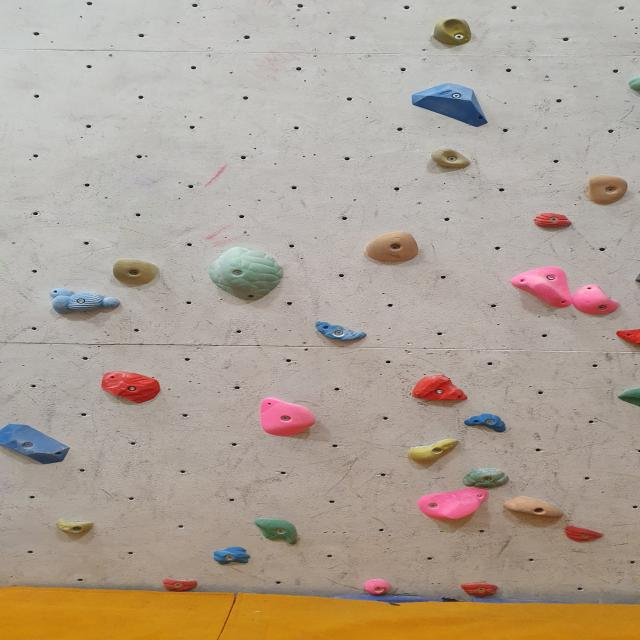Crimp: (0, 424, 77, 465), (402, 373, 473, 406), (102, 370, 164, 402), (559, 523, 608, 545), (464, 468, 514, 489), (309, 323, 366, 341), (465, 414, 511, 431), (533, 212, 574, 230), (458, 582, 500, 598), (214, 548, 254, 564), (56, 520, 94, 536), (360, 578, 390, 596), (158, 578, 196, 590)
Jug: (256, 399, 318, 438), (365, 232, 423, 264), (571, 285, 621, 318), (584, 173, 630, 204), (429, 16, 473, 47), (111, 258, 158, 286), (427, 148, 472, 170)
Pinch: (49, 286, 122, 315), (503, 494, 565, 520), (405, 439, 462, 465)
Sloper: (409, 77, 497, 130), (206, 248, 286, 302), (511, 264, 573, 310), (413, 488, 490, 521), (254, 520, 302, 545)
